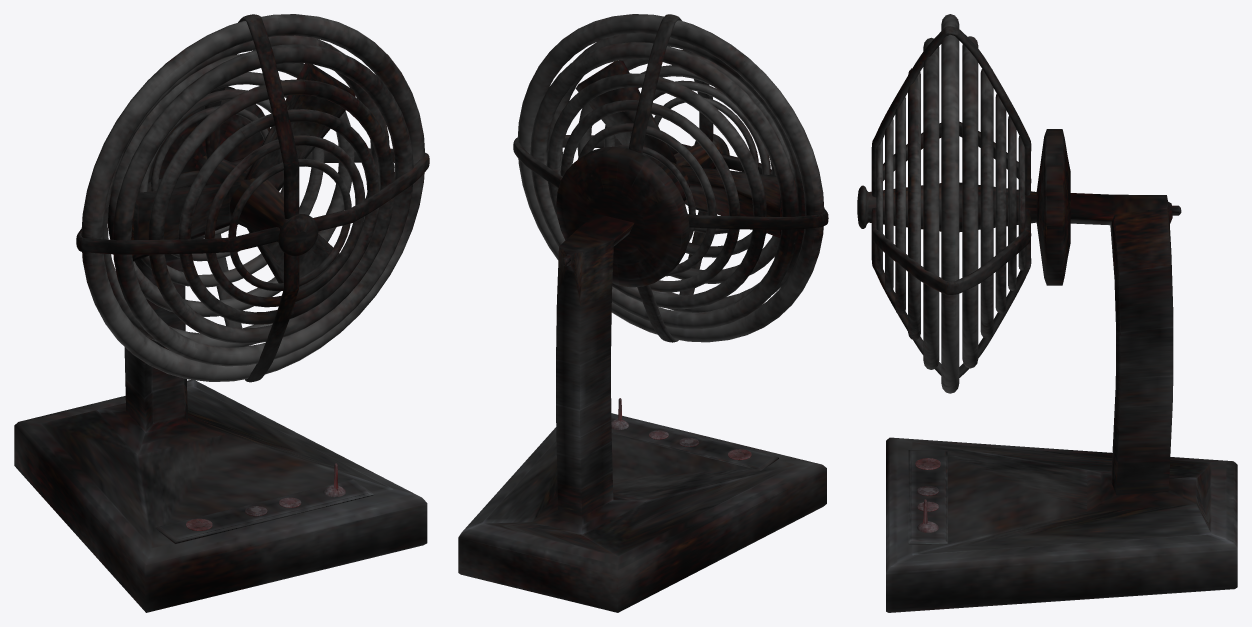
File: fnaf_1_fan.glb
3 renders of one model, left to right at view 1: azimuth 30°, elevation 25°; view 2: azimuth 150°, elevation 25°; view 3: azimuth 270°, elevation 25°, orthographic. The views are drawn at different scales.
Visible parts, largest first — view 1: Cube; view 2: Cube; view 3: Cube.
Part boxes in pixels (<box>): Cube: <box>14,14,429,612</box>; Cube: <box>458,14,828,612</box>; Cube: <box>857,14,1237,612</box>.
Bounding box in the file's own units: 392 × 583 × 383.
Materials: 3 (3 with a texture image).
